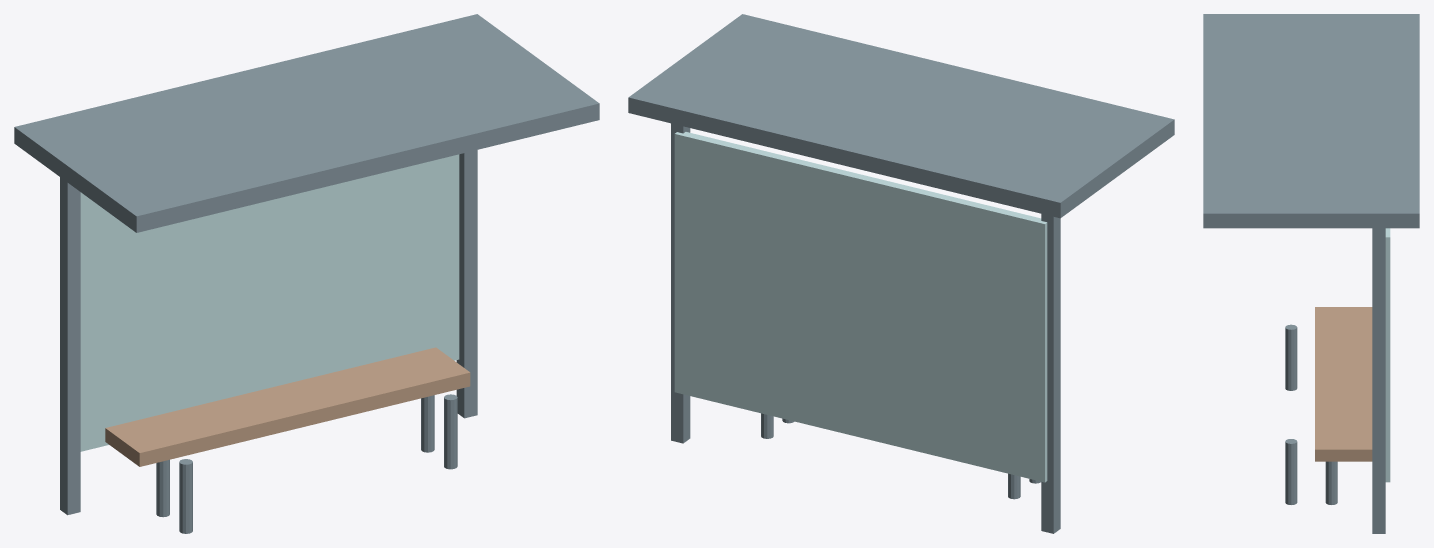
Rendered from bus_shelter.glb.
The picture shows the model from 3 angles, left to right: view 1: azimuth 30°, elevation 25°; view 2: azimuth 150°, elevation 25°; view 3: azimuth 270°, elevation 25°; orthographic projection. The views are drawn at different scales.
Visible parts, largest first — view 1: bus_shelter_002, bus_shelter_003, bus_shelter_004, bus_shelter_000, bus_shelter_001, bus_shelter_007, bus_shelter_005, bus_shelter_008, bus_shelter_006; view 2: bus_shelter_002, bus_shelter_003, bus_shelter_000, bus_shelter_001; view 3: bus_shelter_003, bus_shelter_004, bus_shelter_001, bus_shelter_002, bus_shelter_005, bus_shelter_007, bus_shelter_008.
Part boxes in pixels (x1,y1,x2,y2): bus_shelter_002: (80,154,459,451); bus_shelter_003: (14,14,599,232); bus_shelter_004: (105,347,470,466); bus_shelter_000: (60,177,80,515); bus_shelter_001: (456,150,477,418); bus_shelter_007: (444,394,457,469); bus_shelter_005: (179,459,192,533); bus_shelter_008: (421,395,434,452); bus_shelter_006: (156,459,169,517); bus_shelter_002: (674,132,1047,482); bus_shelter_003: (628,14,1174,218); bus_shelter_000: (1041,214,1060,533); bus_shelter_001: (671,123,690,443); bus_shelter_003: (1203,14,1419,228); bus_shelter_004: (1315,307,1372,461); bus_shelter_001: (1372,228,1385,533); bus_shelter_002: (1385,228,1390,482); bus_shelter_005: (1285,324,1297,390); bus_shelter_007: (1285,439,1297,504); bus_shelter_008: (1325,461,1337,504).
Bounding box in the file's own units: 3.5 × 2.71 × 1.6.
